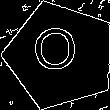O_S: (38, 30, 83, 81)
